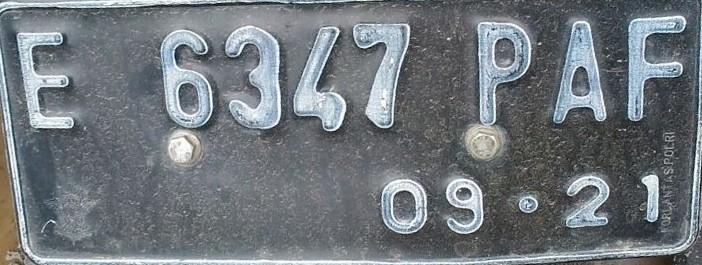plate: (1, 1, 702, 254)
